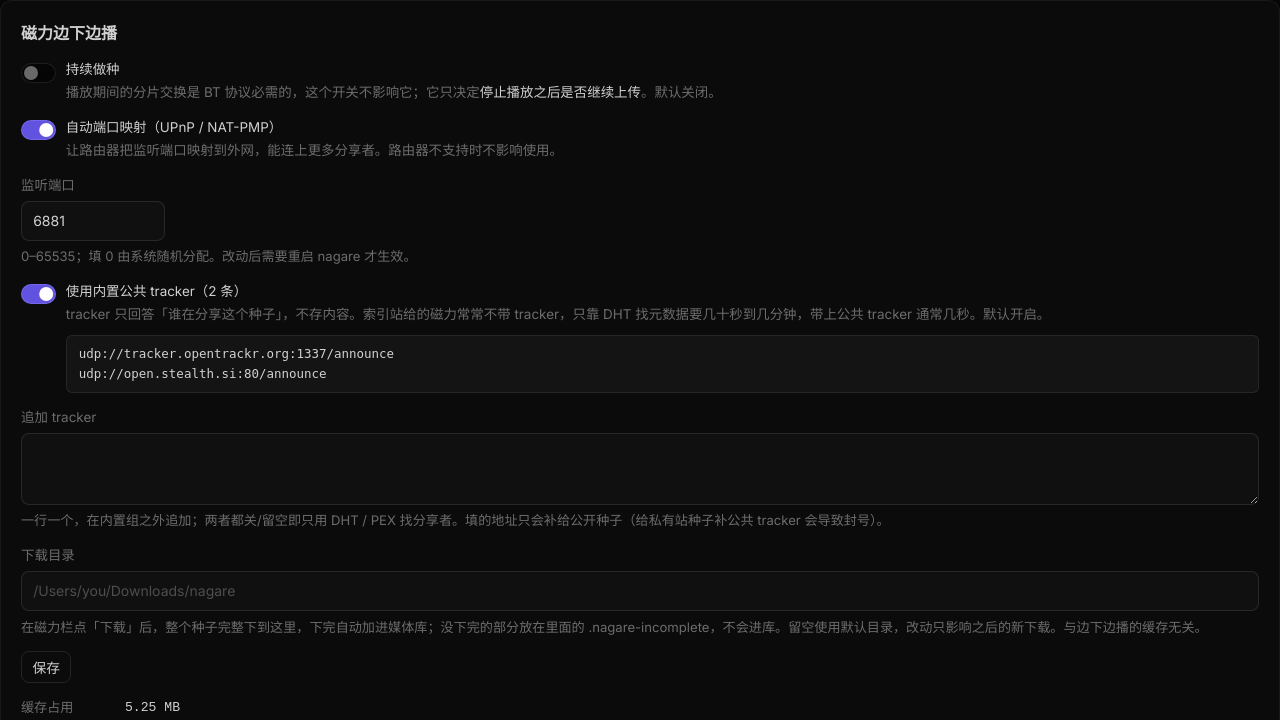
it: TorrentCard · 受控行为 › 保存后以后端返回值回填，「未保存」提示消失
This screenshot has width=1280, height=720.
Click the switch named "持续做种" at x=39, y=73, box [21, 63, 56, 83]
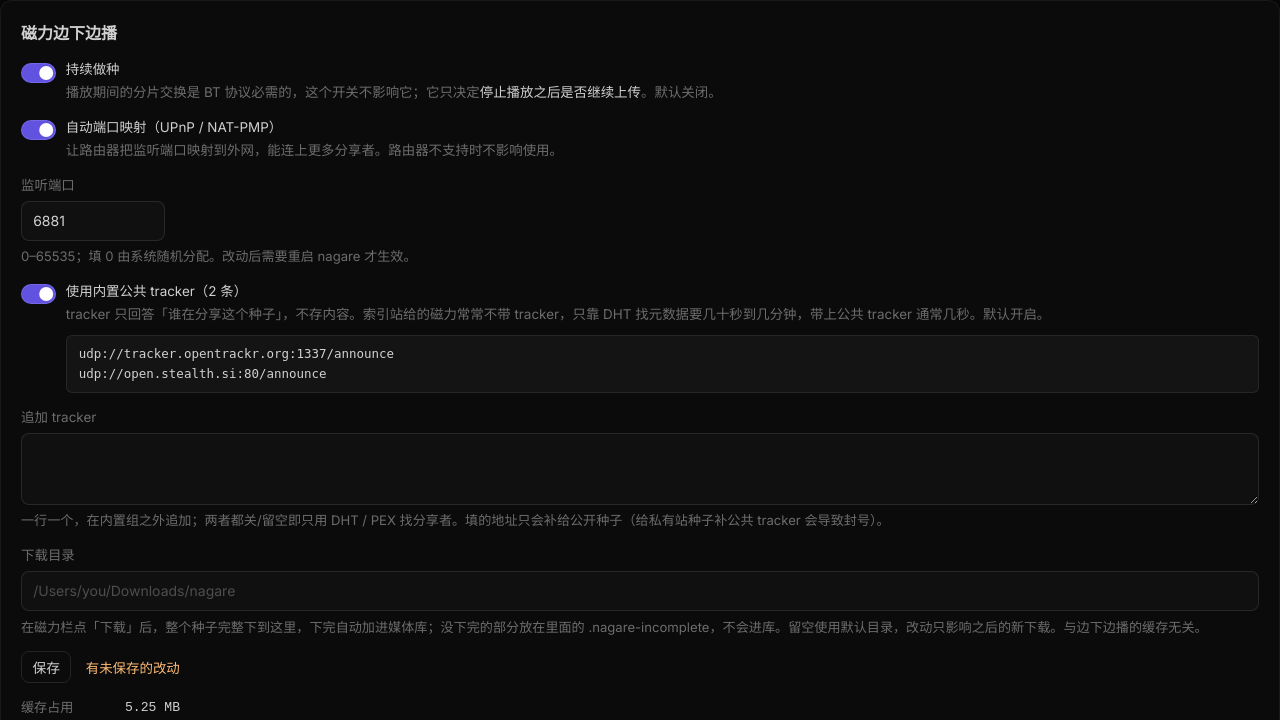
Click the button "保存" at x=46, y=667, box [21, 651, 71, 683]
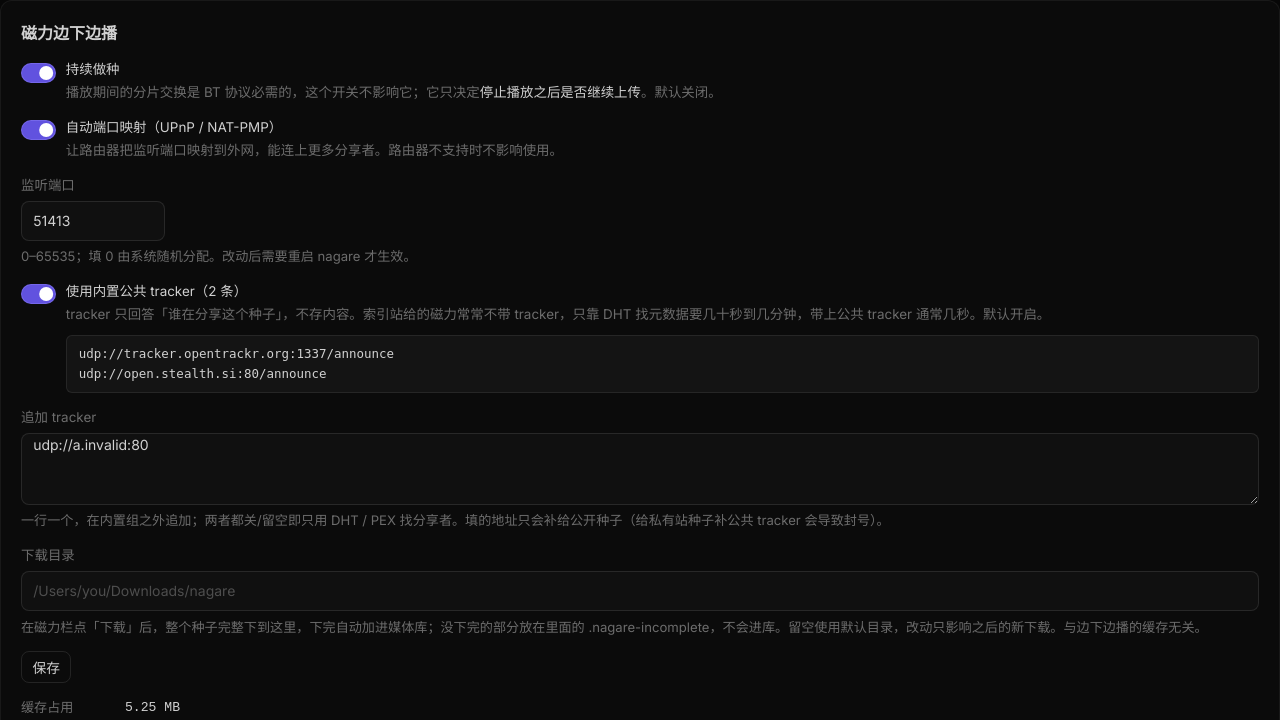
Expected: the text with class "torrent-dirty" is gone
